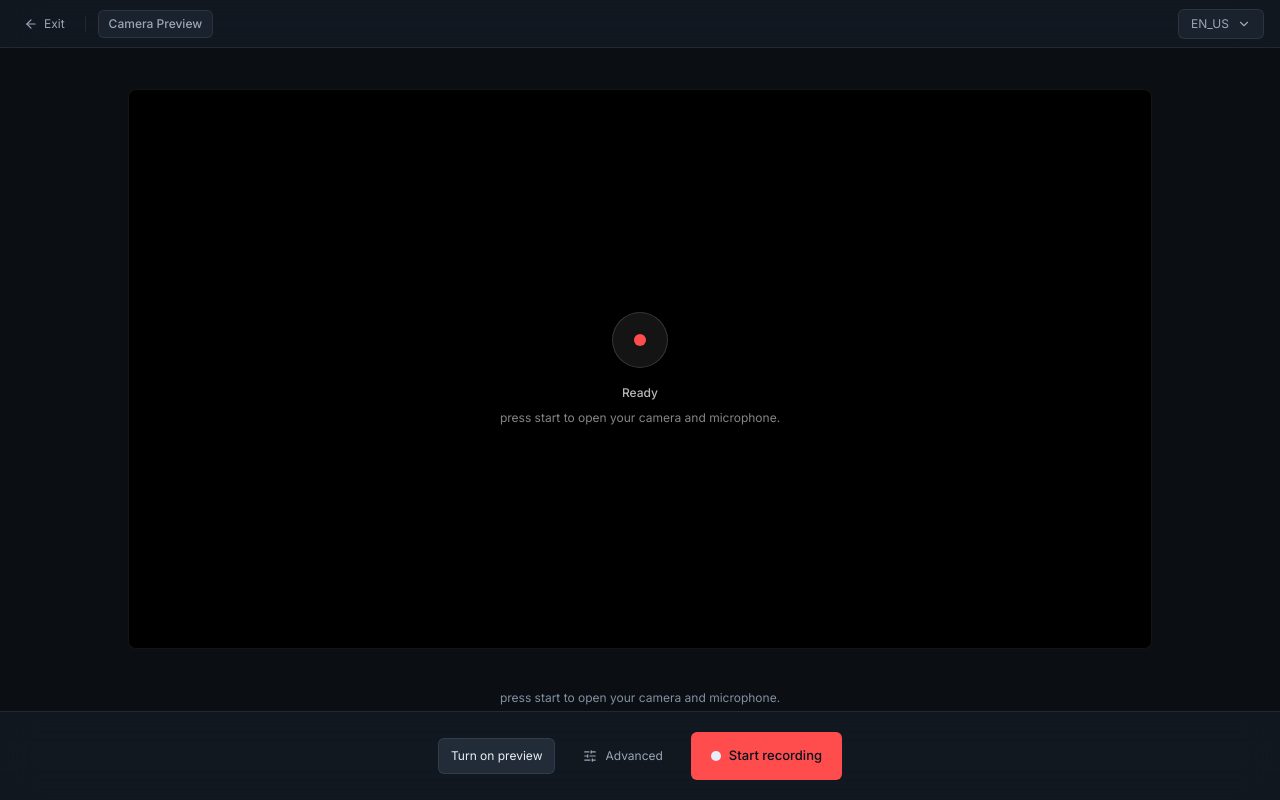
Test case: Record studio workflow › keeps camera and microphone choices in advanced controls
This screenshot has width=1280, height=800.
Click the button "Advanced": click(623, 756) [572,738,675,774]
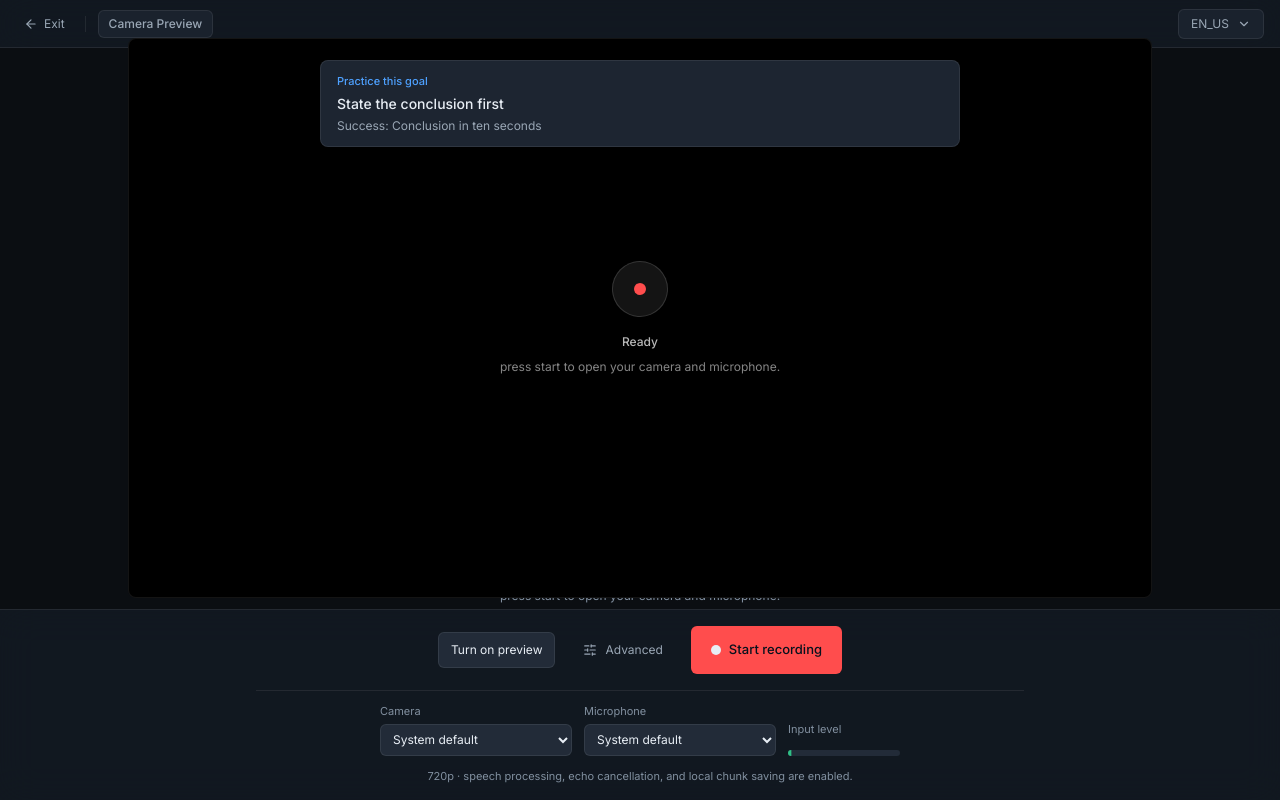
Check: the text "Camera" is shown, box [380,703,572,756]
Check: the text "Microphone" is shown, box [584,703,776,756]
Check: the text "speech processing, echo cancellation" is shown, box [454,768,853,782]
